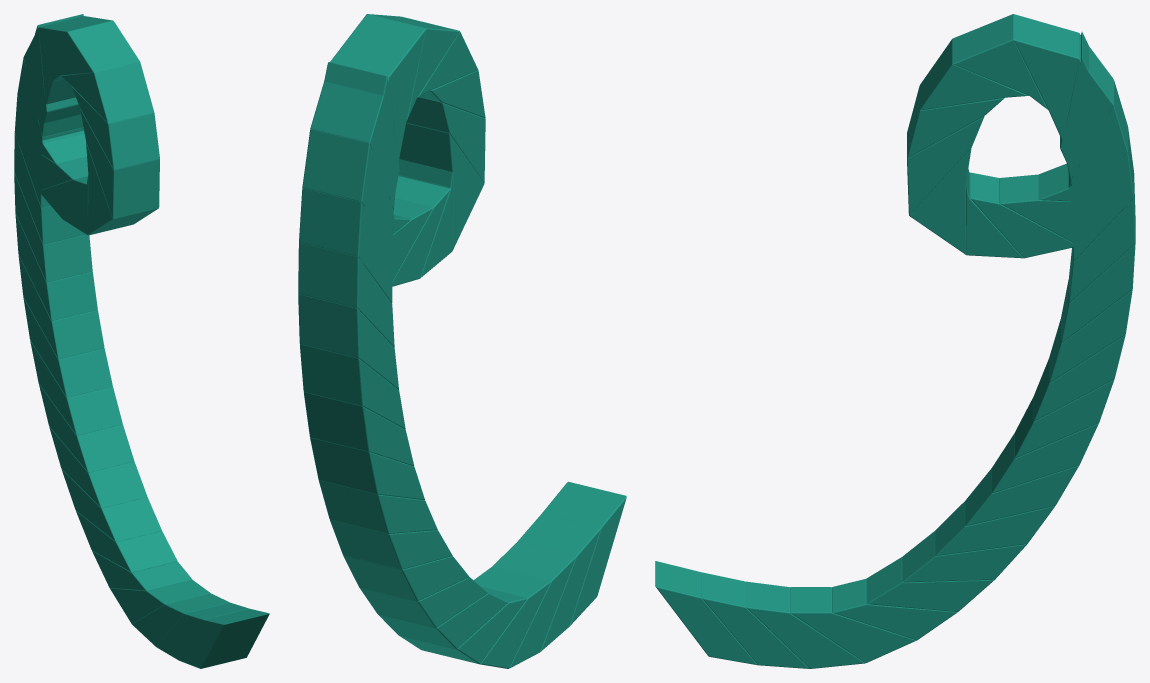
Rendered from wau.fbx.
3 views of the same model, side by side, from view 1: azimuth 30°, elevation 25°; view 2: azimuth 150°, elevation 25°; view 3: azimuth 270°, elevation 25° (orthographic). The views are drawn at different scales.
Visible parts, largest first — view 1: Cube; view 2: Cube; view 3: Cube.
Part boxes in pixels (x1=…): Cube: x1=14, y1=14, x2=269, y2=668; Cube: x1=298, y1=14, x2=626, y2=668; Cube: x1=655, y1=14, x2=1135, y2=668.
Size of the model in its own units: 60 by 677 by 468.
